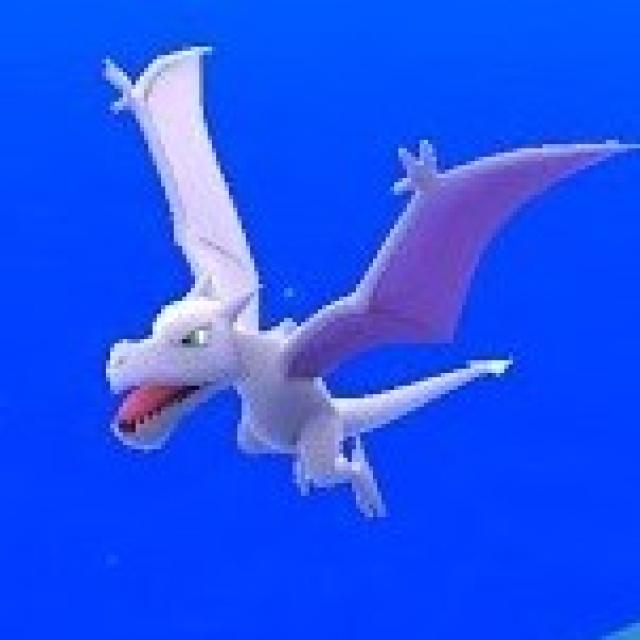Aerodactyl: (89, 57, 481, 525)
